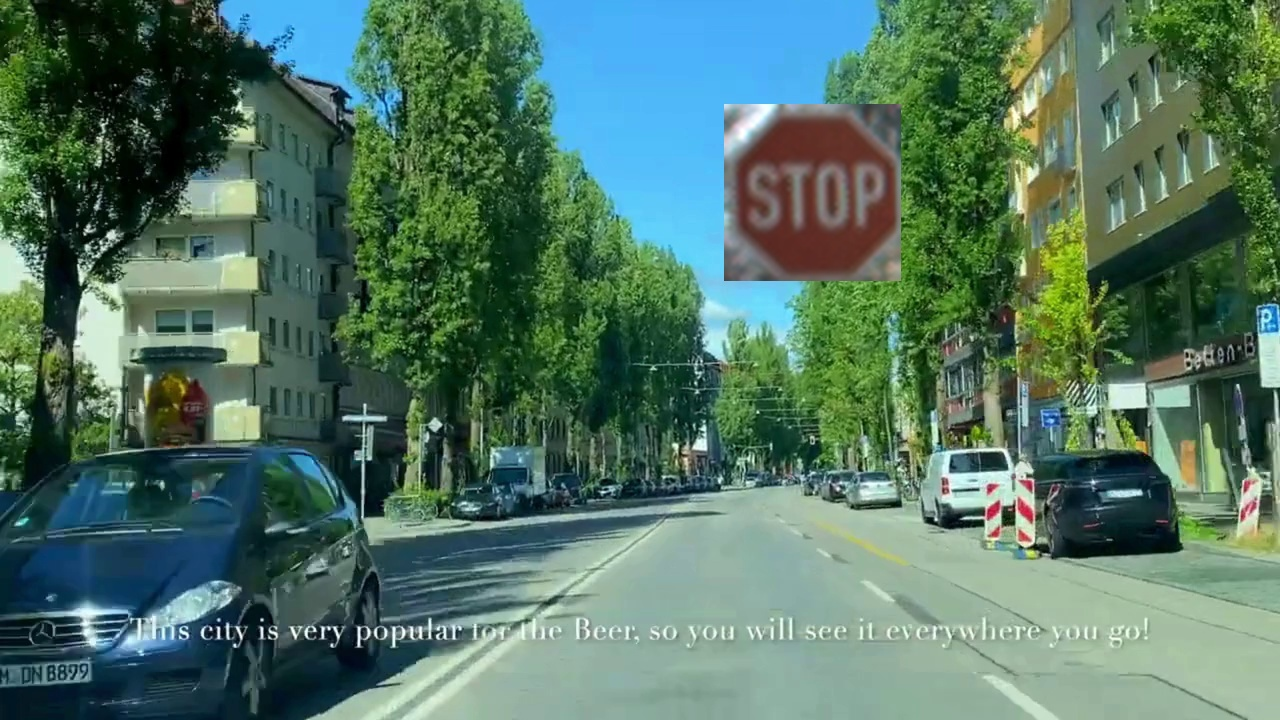Stop: (724, 104, 901, 281)
